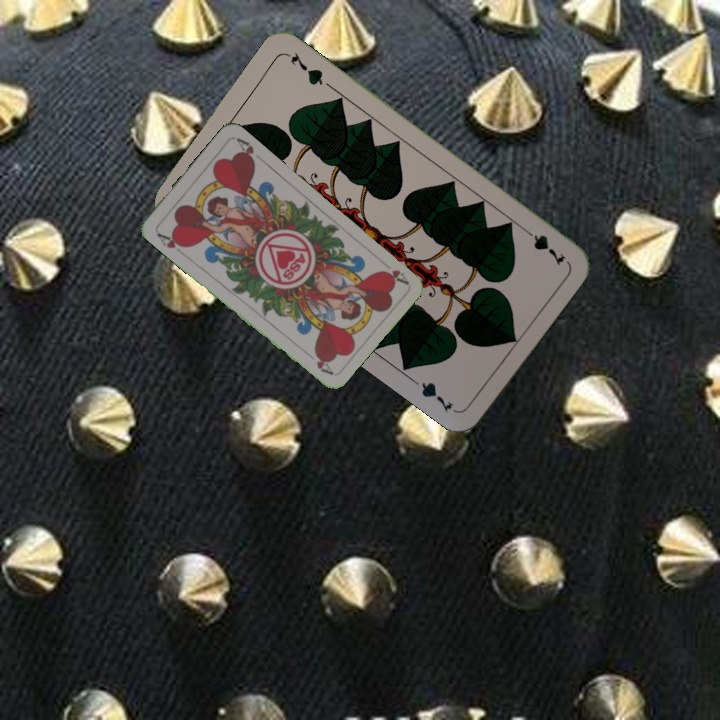G7: (517, 223, 569, 269)
HA: (153, 228, 190, 257), (376, 266, 410, 287)
